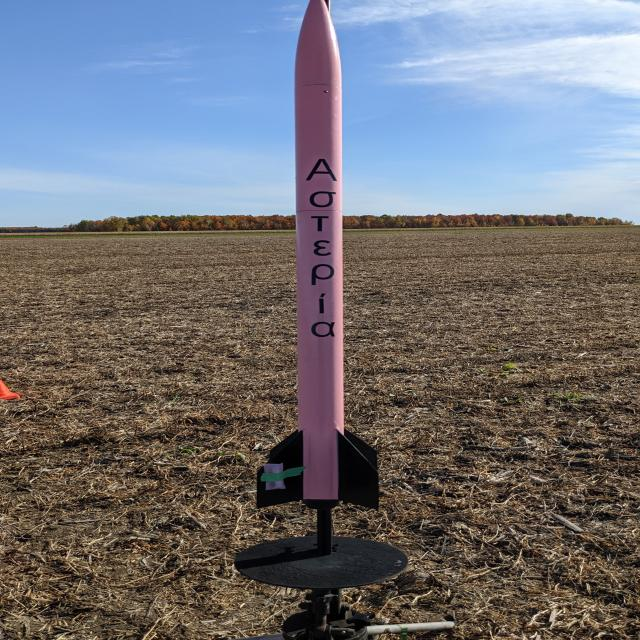Rocket: (257, 0, 379, 510)
